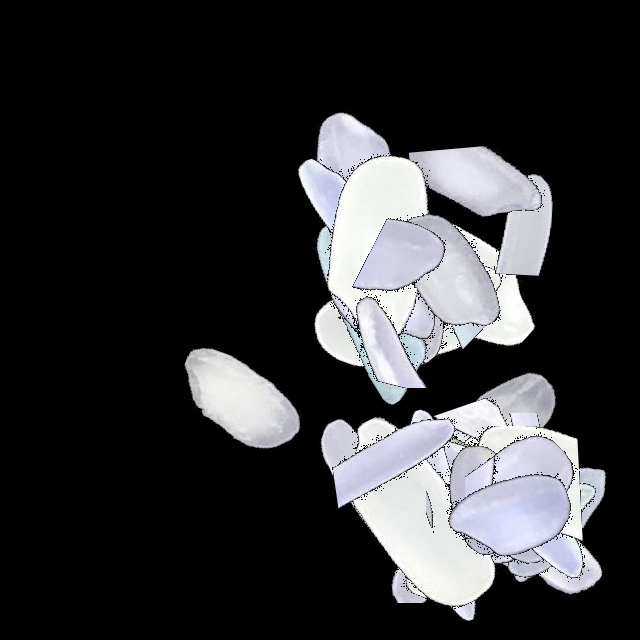Broken: (434, 390, 608, 640), (318, 430, 568, 603), (290, 382, 540, 546), (446, 69, 606, 319), (404, 95, 550, 345), (366, 152, 505, 402), (306, 212, 556, 348), (293, 254, 543, 388), (390, 426, 640, 555), (360, 413, 610, 541), (416, 390, 540, 640), (404, 344, 525, 594), (465, 379, 570, 629), (390, 416, 640, 516), (390, 449, 640, 547), (371, 546, 621, 634), (426, 379, 514, 629), (309, 421, 559, 506), (348, 426, 598, 508), (387, 443, 637, 525), (144, 365, 394, 446)
Full: (330, 151, 580, 401), (278, 183, 528, 433), (277, 168, 527, 418), (380, 296, 630, 546), (228, 37, 478, 287), (390, 390, 640, 640), (248, 180, 498, 430), (341, 390, 591, 640), (390, 371, 640, 621), (242, 358, 492, 608), (348, 390, 598, 640), (234, 115, 484, 365), (313, 352, 563, 602), (358, 390, 608, 640), (286, 390, 536, 640), (255, 168, 505, 418), (116, 277, 366, 527), (390, 379, 640, 629), (251, 125, 501, 375), (350, 390, 600, 640), (313, 390, 563, 640), (289, 390, 539, 640), (361, 379, 611, 629), (390, 362, 640, 612), (320, 146, 570, 396), (386, 390, 636, 640)
